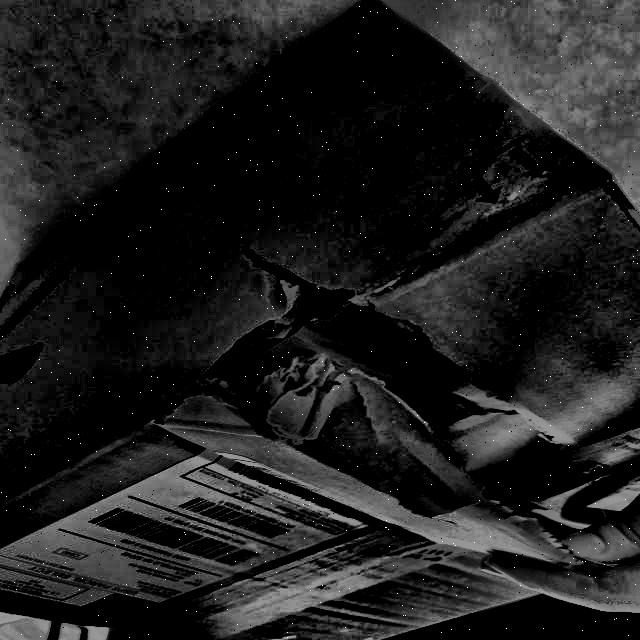box: (1, 1, 640, 640)
hole: (181, 242, 613, 539)
